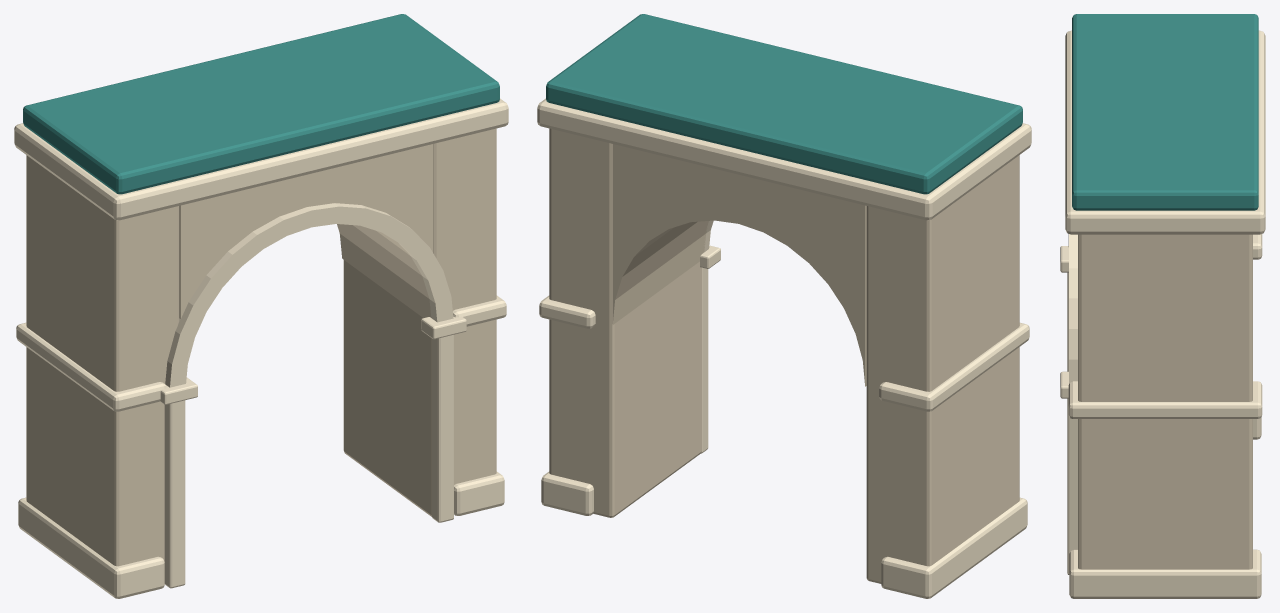
The model's file is world01-arcade-v1.glb.
The picture shows the model from 3 angles, left to right: view 1: azimuth 30°, elevation 25°; view 2: azimuth 150°, elevation 25°; view 3: azimuth 270°, elevation 25°; orthographic projection. The views are drawn at different scales.
Parts seen in each view (by area): view 1: Ivory limestone, Patinated copper, Carved pale edges; view 2: Ivory limestone, Patinated copper, Carved pale edges; view 3: Ivory limestone, Patinated copper, Carved pale edges.
Boxes of the visible parts, x1,y1,x2,y2 form: Ivory limestone: (26,128,496,566); Patinated copper: (23,14,499,194); Carved pale edges: (14,98,508,598); Ivory limestone: (549,128,1019,583); Patinated copper: (546,14,1022,194); Carved pale edges: (537,98,1031,598); Ivory limestone: (1078,234,1252,569); Patinated copper: (1072,14,1258,210); Carved pale edges: (1060,30,1265,598).
Size of the model in its own units: 4.88 by 5.01 by 2.28.
